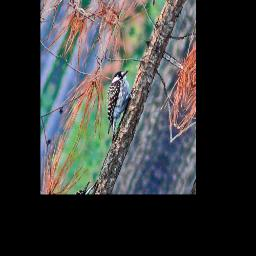Woodpecker: (88, 57, 147, 151)
